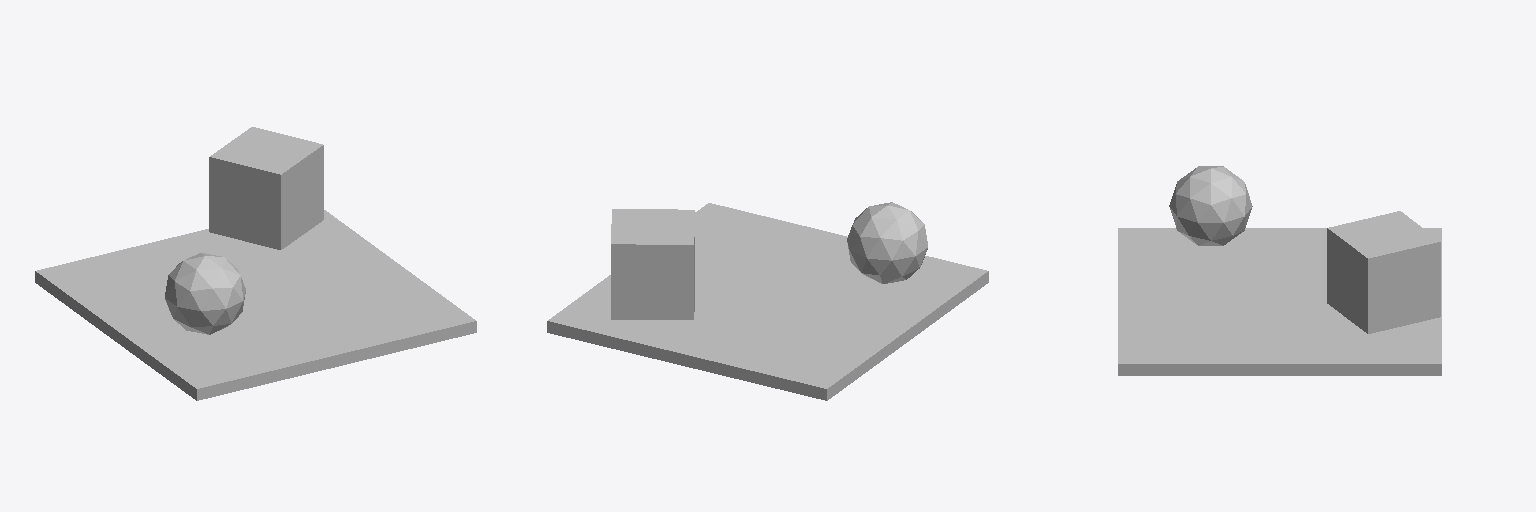
The model's file is RandomShapes.obj.
3 views of the same model, side by side, from view 1: azimuth 30°, elevation 25°; view 2: azimuth 150°, elevation 25°; view 3: azimuth 270°, elevation 25° (orthographic).
Parts seen in each view (by area): view 1: Cube_Cube.001, Cube.001_Cube.002, Icosphere; view 2: Cube_Cube.001, Cube.001_Cube.002, Icosphere; view 3: Cube_Cube.001, Cube.001_Cube.002, Icosphere.
Part boxes in pixels (x1,y1,x2,y2): Cube_Cube.001: (35, 210, 476, 400); Cube.001_Cube.002: (209, 127, 323, 249); Icosphere: (165, 253, 245, 334); Cube_Cube.001: (547, 203, 988, 400); Cube.001_Cube.002: (611, 209, 694, 319); Icosphere: (847, 202, 927, 283); Cube_Cube.001: (1118, 228, 1441, 375); Cube.001_Cube.002: (1327, 211, 1440, 333); Icosphere: (1169, 166, 1252, 245).
Bounding box in the file's own units: 7.75 × 2.74 × 7.75.